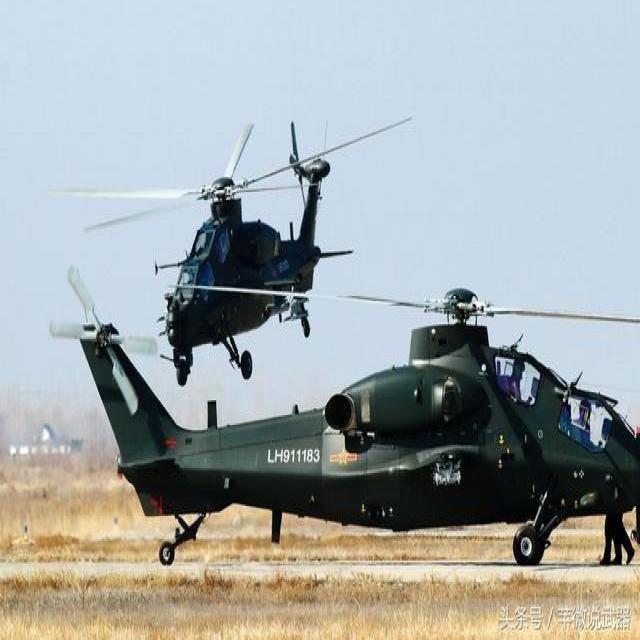MIL_HELO: (45, 234, 640, 586), (72, 101, 411, 369)
